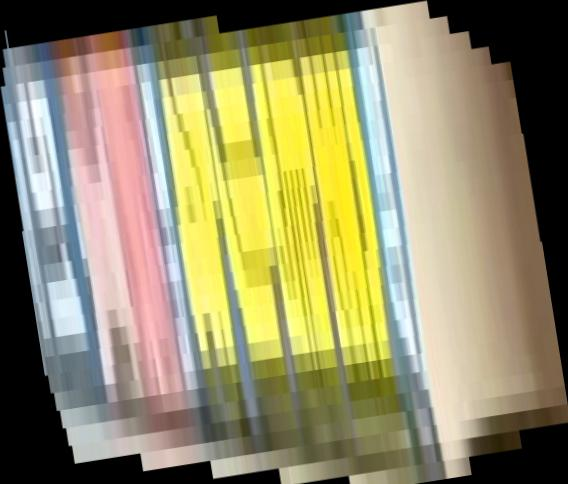flat: (1, 1, 568, 484)
